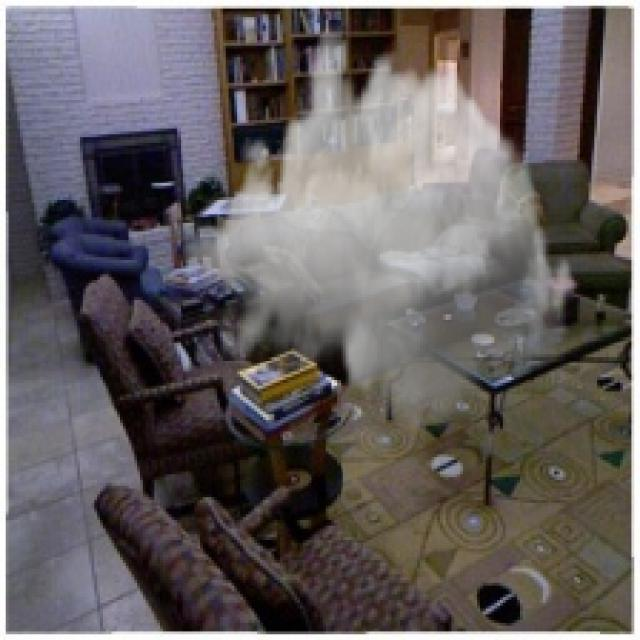Smoke: (180, 20, 580, 440)
